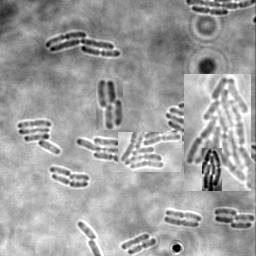Dividing: (52, 175, 89, 189), (128, 238, 157, 255), (166, 209, 202, 222), (164, 217, 200, 228), (192, 7, 229, 17)
Microcolony: (184, 74, 251, 191), (118, 132, 182, 172), (45, 32, 121, 57), (18, 120, 61, 155), (96, 78, 123, 130), (76, 137, 118, 168), (214, 208, 255, 229), (202, 148, 222, 191)
Rod: (121, 233, 150, 251), (78, 222, 99, 240), (50, 167, 72, 177), (69, 174, 90, 183)
